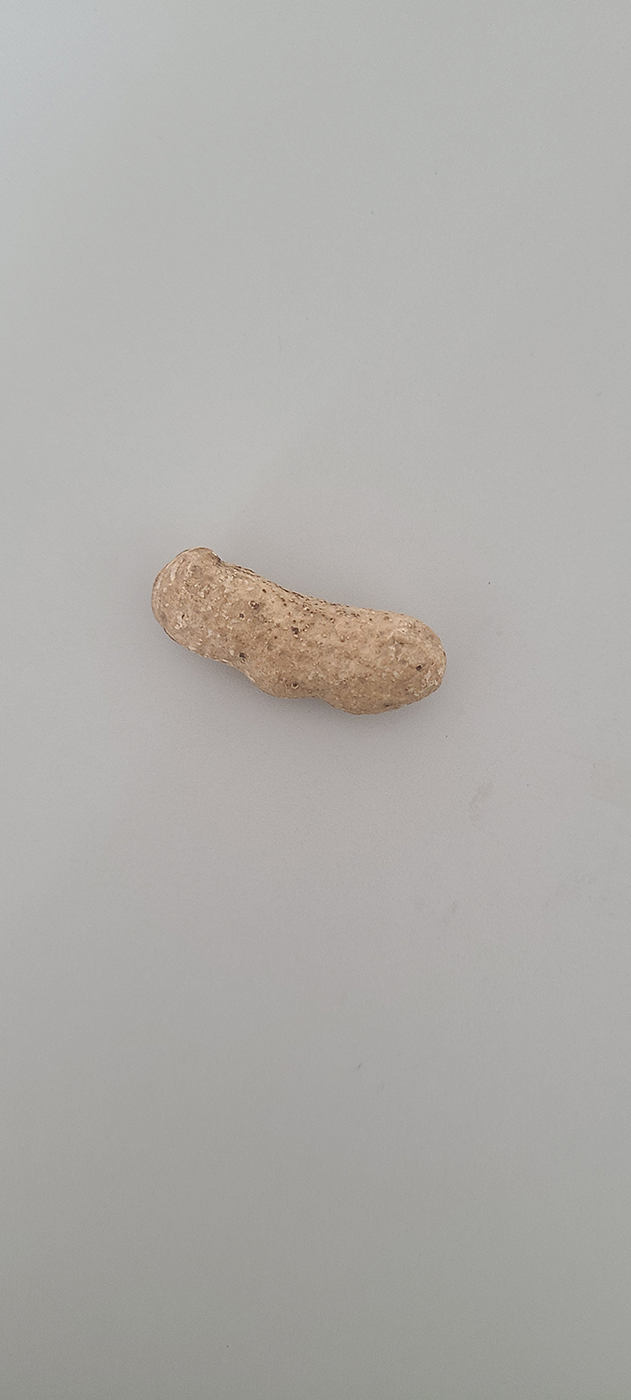h: (150, 546, 448, 717)
